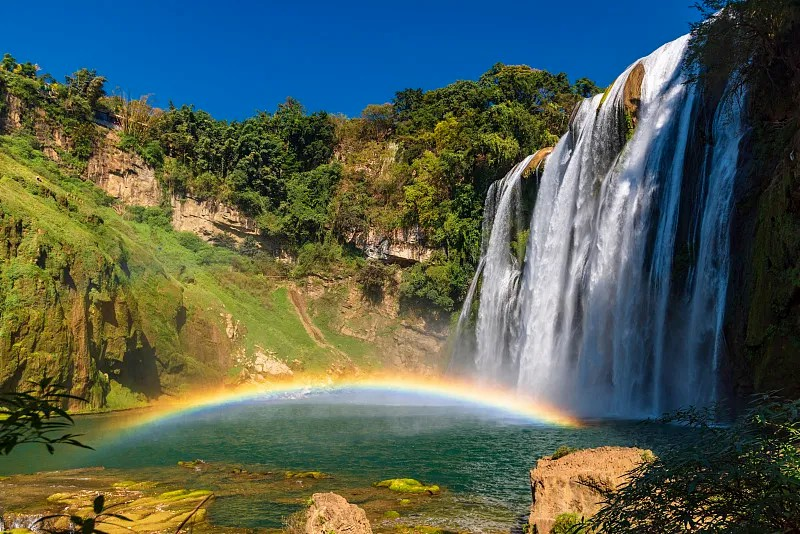Huangguoshu: (467, 13, 738, 419)
